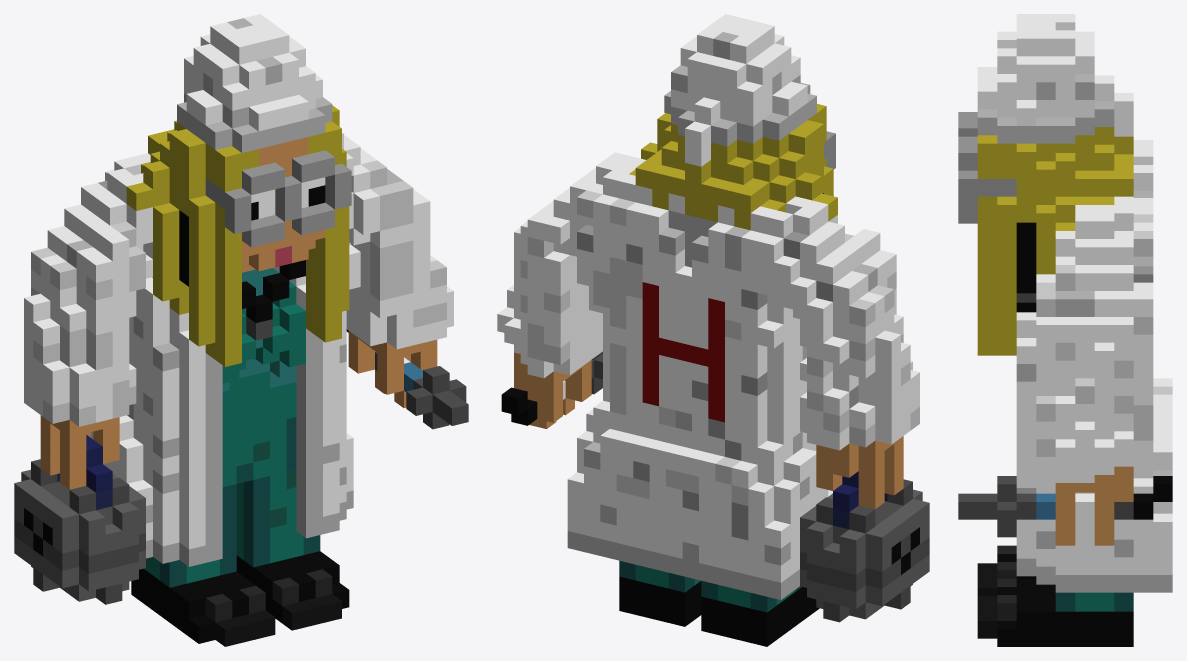
Rendered from vrach2-6.obj.
The picture shows the model from 3 angles, left to right: view 1: azimuth 30°, elevation 25°; view 2: azimuth 150°, elevation 25°; view 3: azimuth 270°, elevation 25°; orthographic projection. The views are drawn at different scales.
Size of the model in its own units: 2.4 by 3.3 by 1.1.
Materials: 1 (1 with a texture image).
